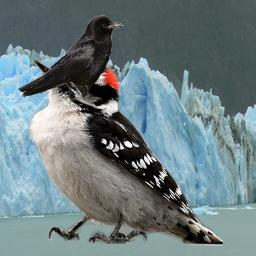Crow: (17, 15, 124, 102)
Woodpecker: (27, 60, 223, 246)
